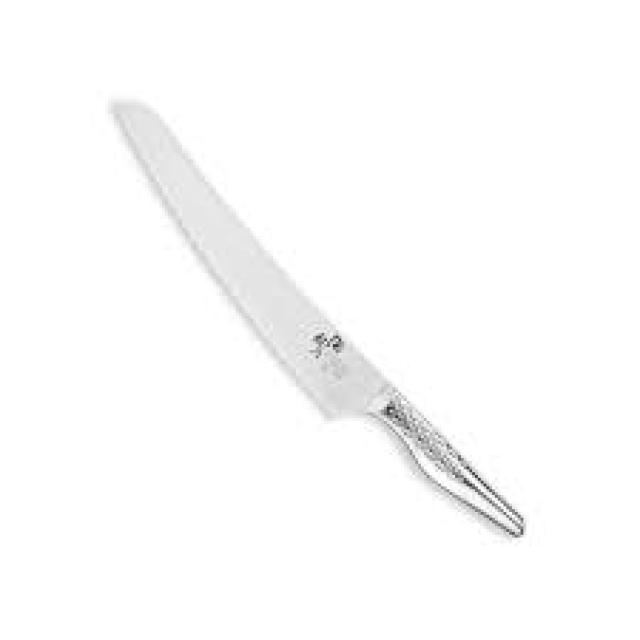knives: (102, 88, 532, 546)
